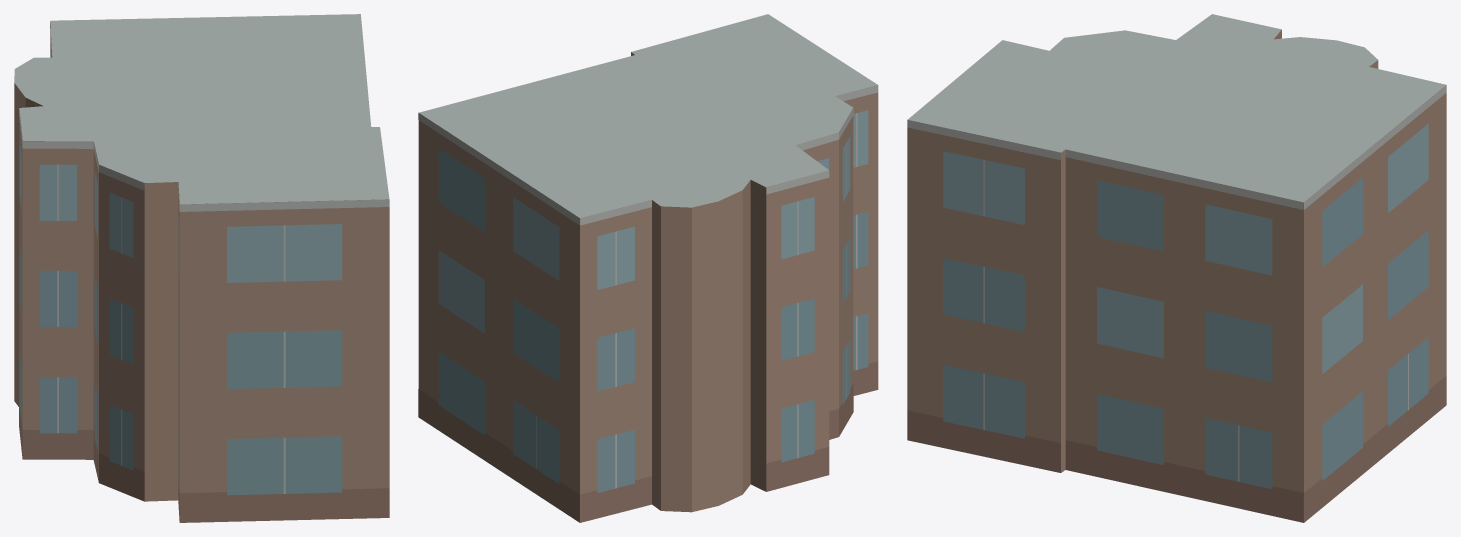
The model's file is survey-upis-33025290.glb.
3 views of the same model, side by side, from view 1: azimuth 30°, elevation 25°; view 2: azimuth 150°, elevation 25°; view 3: azimuth 270°, elevation 25° (orthographic). The views are drawn at different scales.
Visible parts, largest first — view 1: survey-upis-33025290.tmp; view 2: survey-upis-33025290.tmp; view 3: survey-upis-33025290.tmp.
Boxes of the visible parts, x1,y1,x2,y2 form: survey-upis-33025290.tmp: [14, 14, 389, 522]; survey-upis-33025290.tmp: [418, 14, 878, 522]; survey-upis-33025290.tmp: [907, 14, 1446, 522].
Size of the model in its own units: 12.87 by 10.2 by 15.56.
